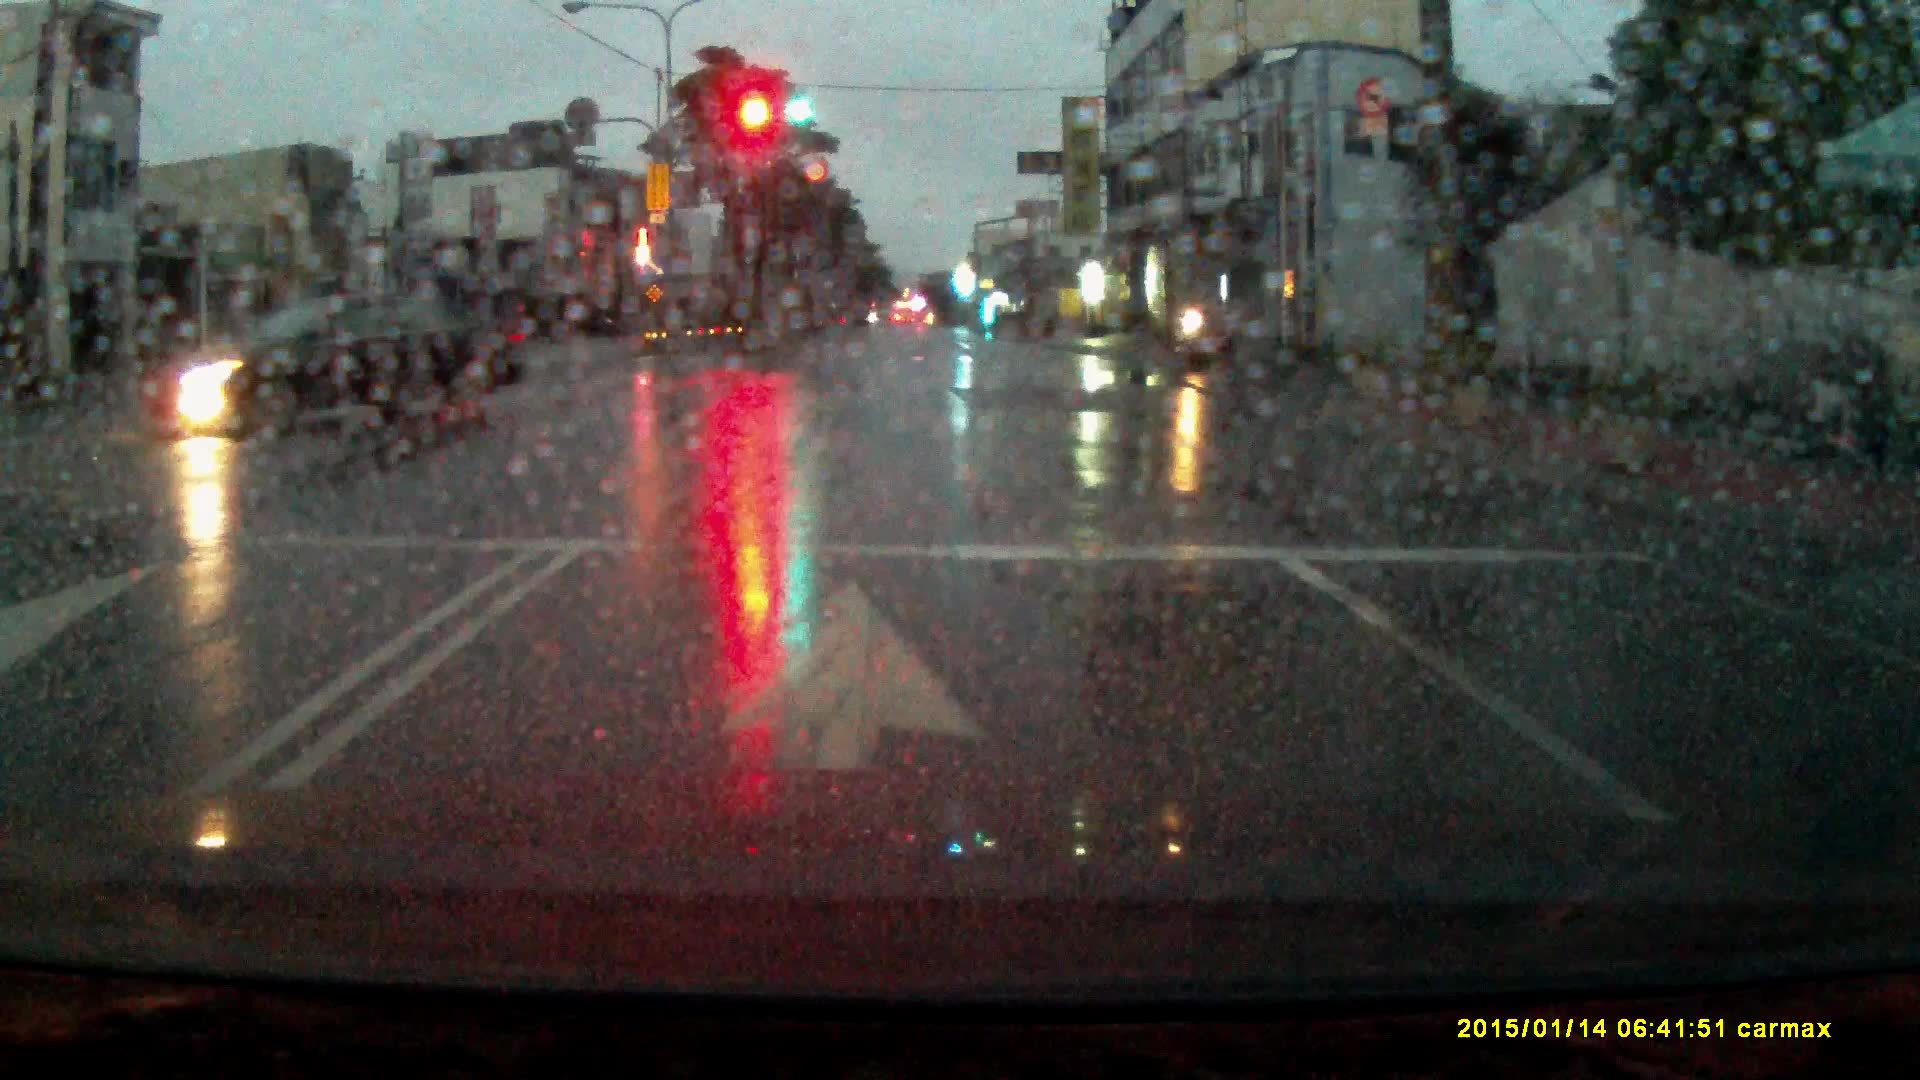rider: (1155, 283, 1243, 372)
vehicle: (174, 291, 529, 439)
